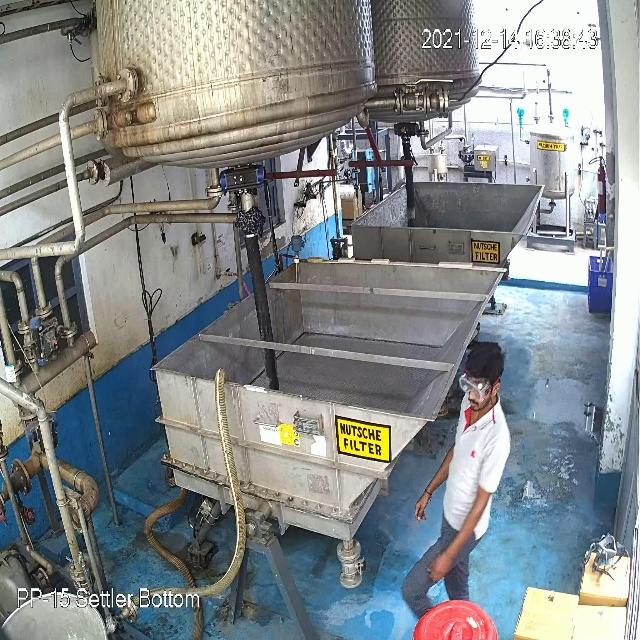Gafas: (456, 370, 492, 402)
Sin_mascara: (465, 392, 494, 415)
